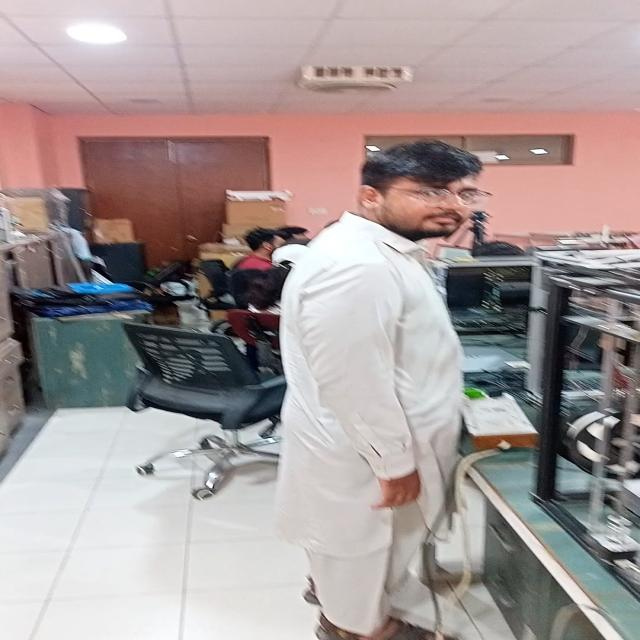dress: (277, 207, 465, 640)
glasses: (409, 178, 490, 214)
